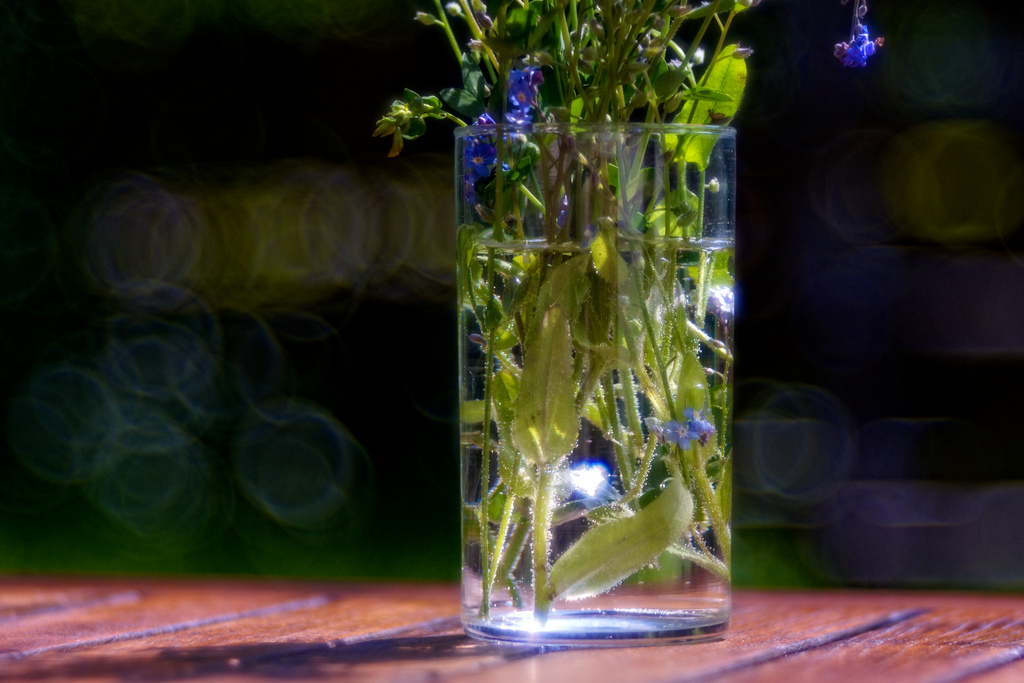glass of water: (449, 223, 737, 641)
